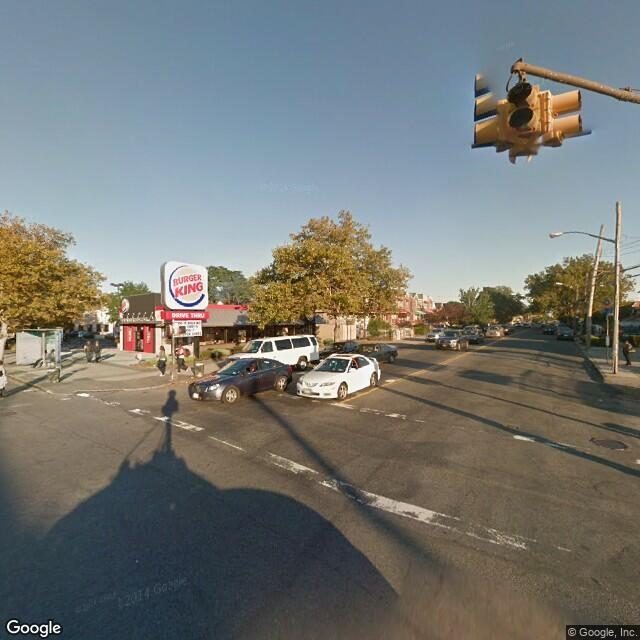litter: (18, 386, 36, 394), (385, 377, 397, 384), (596, 397, 603, 404), (187, 375, 197, 376)
